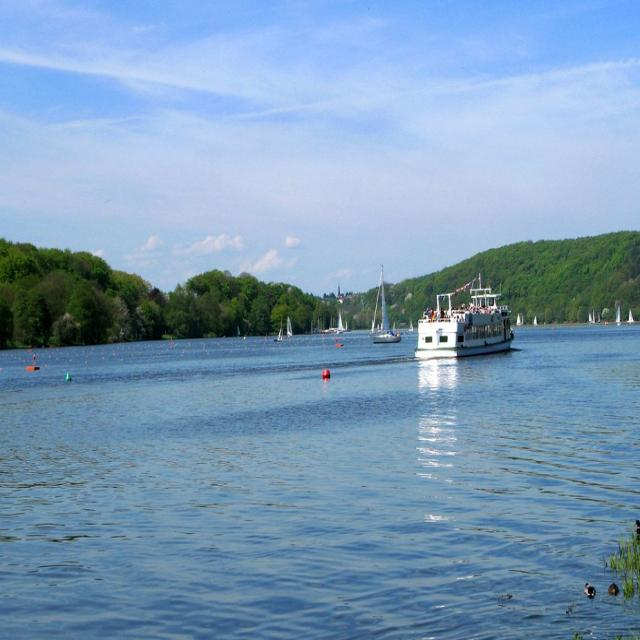buoy: (18, 334, 46, 380), (317, 366, 342, 384)
passenger ship: (424, 273, 518, 363)
sailboat: (363, 250, 399, 348), (331, 307, 354, 337), (284, 302, 298, 339)
